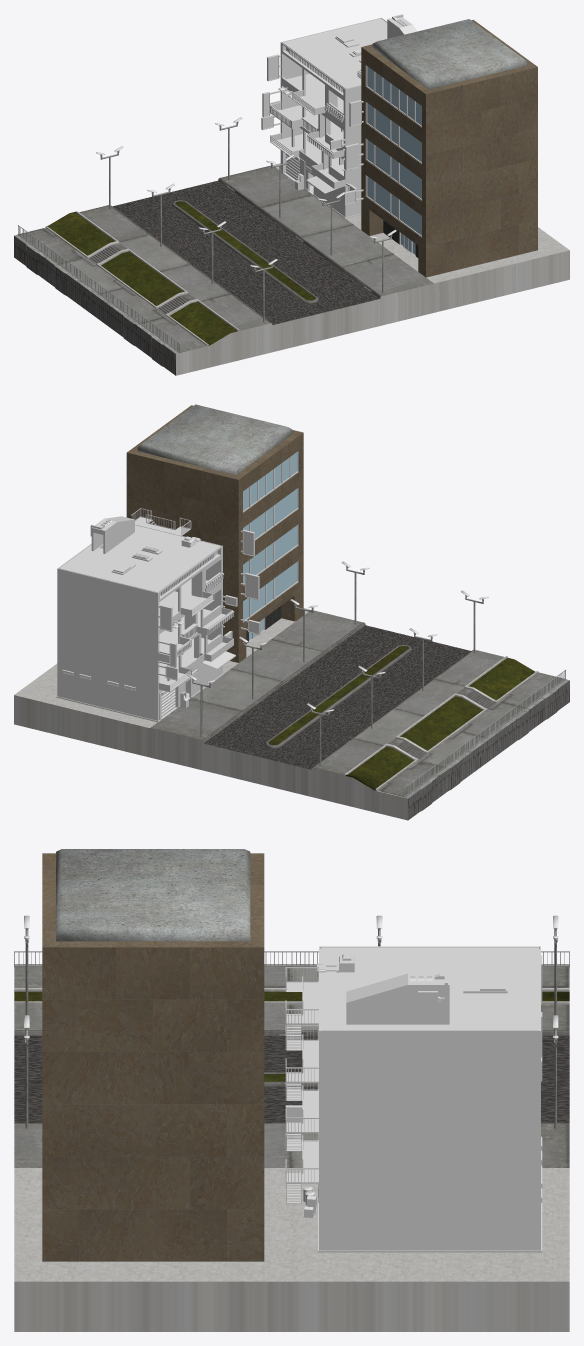
File: waterside.dae
The picture shows the model from 3 angles, top to bottom: view 1: azimuth 30°, elevation 25°; view 2: azimuth 150°, elevation 25°; view 3: azimuth 270°, elevation 25°; orthographic projection. The views are drawn at different scales.
Parts seen in each view (by area): view 1: Plane.004, road, Plane.280, Plane.197, Plane.066, Plane.290, Plane.285, Plane.009, Plane.286, Plane.291, Plane, Plane.274 (+12 smaller); view 2: Plane.066, Plane.004, road, Plane.280, Plane.197, Plane.290, Plane.285, Plane.009, Plane.286, Plane.291, Plane, Plane.274 (+13 smaller); view 3: Plane.004, Plane.066, Plane.280, Plane.274, Plane.290, road, Cube.005, Plane.197, Plane.009, Plane.286, Plane.256, Plane.255 (+7 smaller).
Part boxes in pixels (x1,y1,x2,y2): Plane.004: (361,19,537,277); road: (112,180,379,324); Plane.280: (176,250,569,375); Plane.197: (221,165,433,295); Plane.066: (280,17,387,217); Plane.290: (372,19,526,89); Plane.285: (47,211,237,345); Plane.009: (79,205,269,330); Plane.286: (18,227,206,352); Plane.291: (367,66,421,235); Plane: (14,236,175,375); Plane.274: (273,163,569,283); Plane.066: (57,524,222,720); Plane.004: (126,405,303,662); road: (204,625,471,769); Plane.280: (14,695,407,820); Plane.197: (150,610,362,740); Plane.290: (137,404,292,474); Plane.285: (346,657,535,790); Plane.009: (314,650,504,775); Plane.286: (377,672,565,797); Plane.291: (243,452,297,619); Plane: (408,680,569,820); Plane.274: (14,608,310,727); Plane.004: (42,853,264,1261); Plane.066: (319,946,540,1250); Plane.280: (14,1281,569,1331); Plane.274: (14,1168,569,1281); Plane.290: (56,849,250,941); road: (14,1036,569,1122); Cube.005: (346,973,449,1024); Plane.197: (14,1124,569,1167); Plane.009: (14,1004,569,1030); Plane.286: (14,966,569,987); Plane.256: (285,967,318,1024); Plane.255: (285,1025,318,1082).
Size of the model in its own units: 56.4 by 40.06 by 30.
12 materials, 9 textured.
